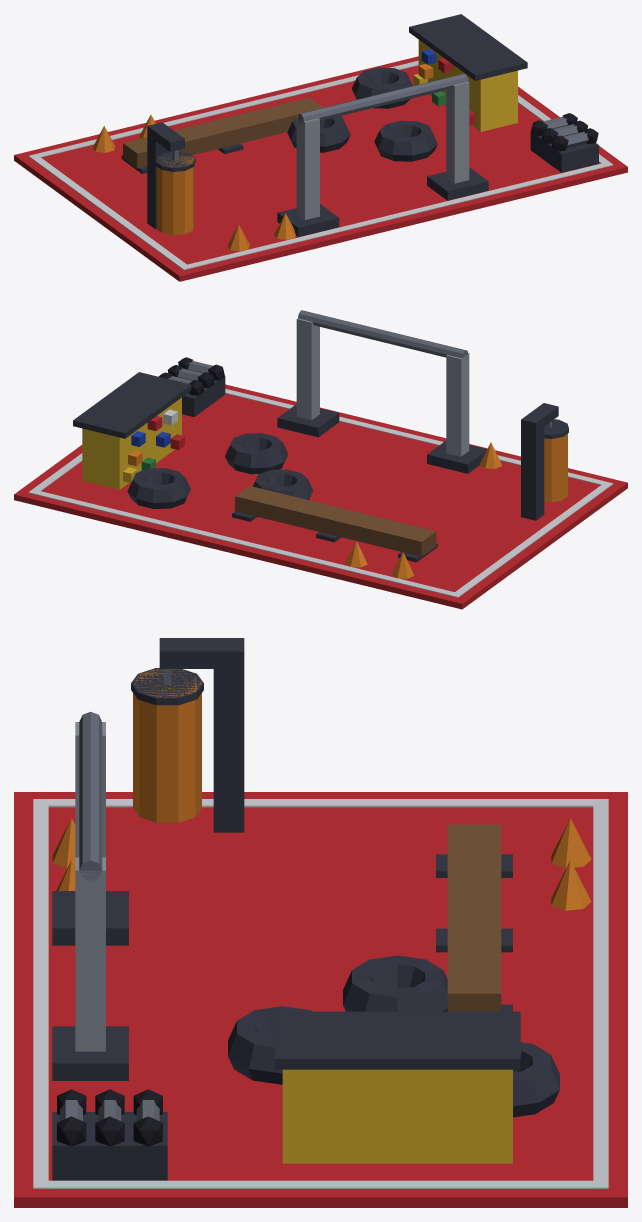
The model's file is Decor_HeroHQ_Course.fbx.
3 renders of one model, top to bottom at view 1: azimuth 30°, elevation 25°; view 2: azimuth 150°, elevation 25°; view 3: azimuth 270°, elevation 25°, orthographic. The views are drawn at different scales.
Visible parts, largest first — view 1: Course_Body; view 2: Course_Body; view 3: Course_Body.
Boxes of the visible parts, x1,y1,x2,y2 form: Course_Body: (14,14,627,281); Course_Body: (14,310,627,609); Course_Body: (14,638,627,1207).
Size of the model in its own units: 25 by 6.3 by 16.
